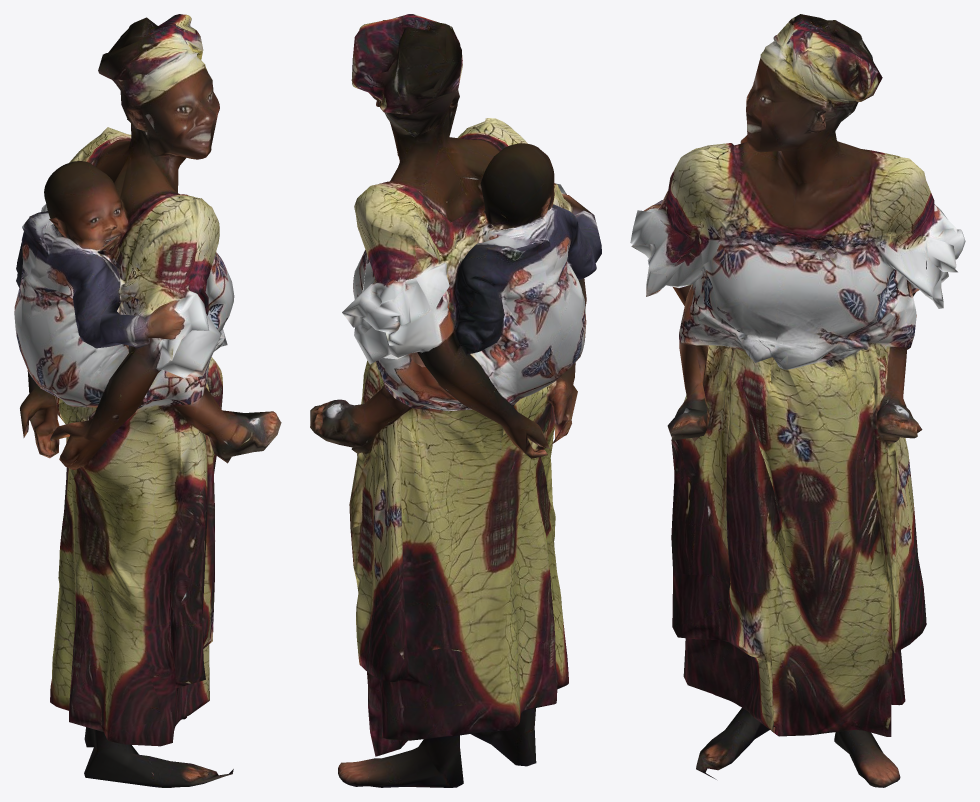
File: mother-child-camp.glb
The picture shows the model from 3 angles, left to right: view 1: azimuth 30°, elevation 25°; view 2: azimuth 150°, elevation 25°; view 3: azimuth 270°, elevation 25°; orthographic projection. The views are drawn at different scales.
Visible parts, largest first — view 1: Object_5, Object_6, Object_8, Object_7; view 2: Object_7, Object_6, Object_8, Object_5; view 3: Object_7, Object_6, Object_8, Object_5.
Boxes of the visible parts, left/top/right/bottom form: Object_5: left=48, top=168, right=281, bottom=787; Object_6: left=16, top=15, right=229, bottom=786; Object_8: left=14, top=14, right=231, bottom=747; Object_7: left=14, top=14, right=190, bottom=673; Object_7: left=310, top=25, right=562, bottom=787; Object_6: left=319, top=25, right=596, bottom=784; Object_8: left=361, top=14, right=586, bottom=787; Object_5: left=458, top=118, right=601, bottom=685; Object_7: left=782, top=42, right=965, bottom=787; Object_6: left=676, top=29, right=926, bottom=787; Object_8: left=713, top=14, right=866, bottom=751; Object_5: left=630, top=135, right=790, bottom=779.
Bounding box in the file's own units: 0.5622 × 1.9 × 0.7713.
1 material, 1 textured.
